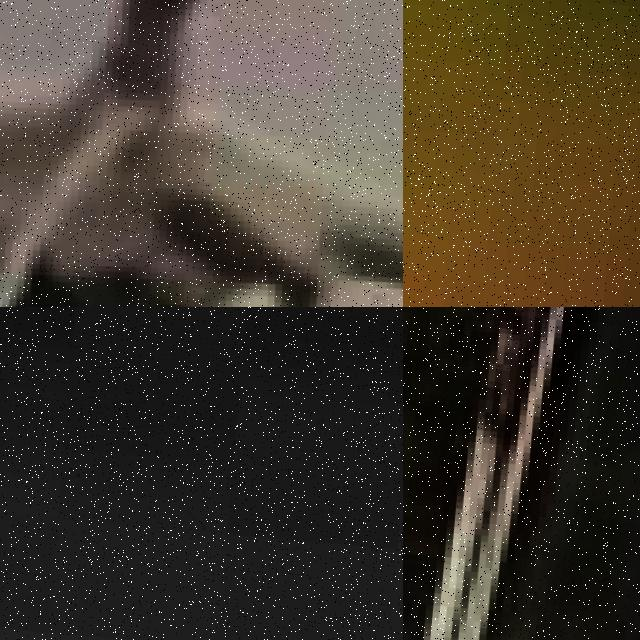drone: (0, 0, 403, 307)
